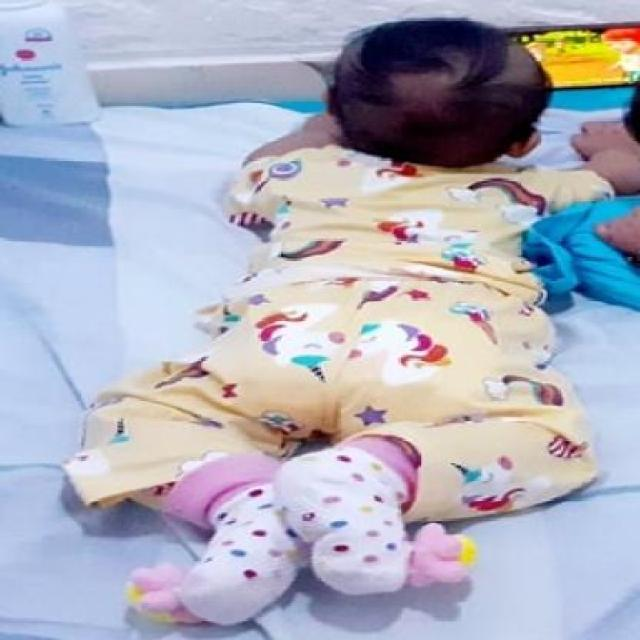baby: (78, 14, 640, 614)
